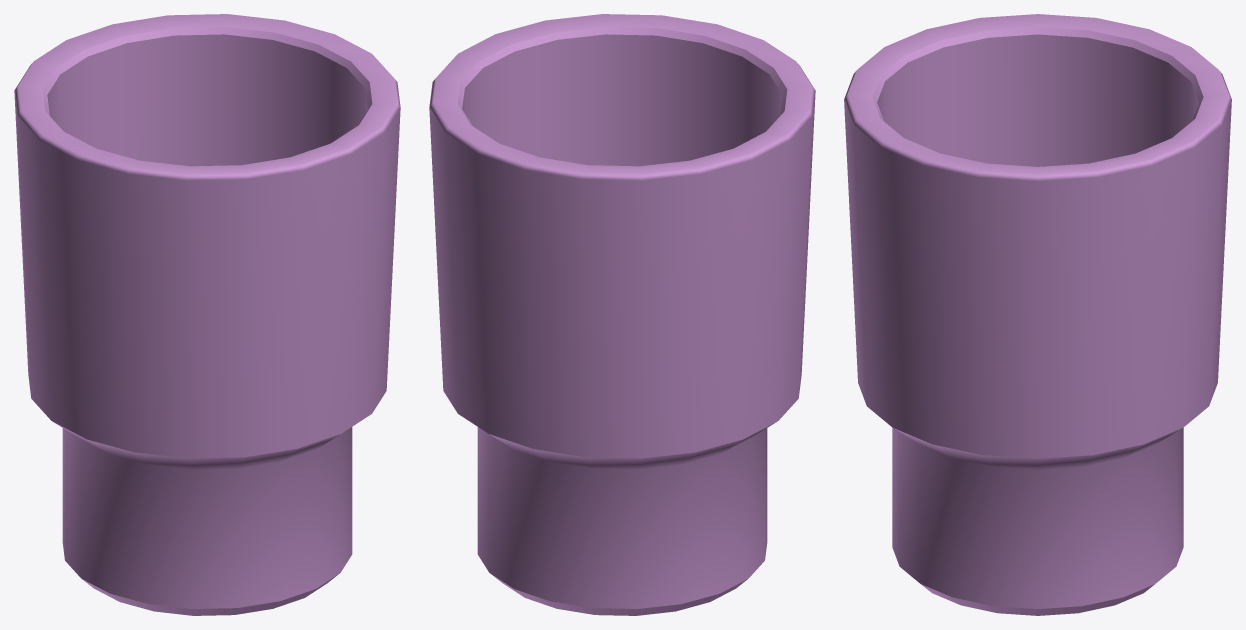
File: CoffeeCup01.fbx
3 views of the same model, side by side, from view 1: azimuth 30°, elevation 25°; view 2: azimuth 150°, elevation 25°; view 3: azimuth 270°, elevation 25° (orthographic).
Visible parts, largest first — view 1: CoffeeCup_Cup; view 2: CoffeeCup_Cup; view 3: CoffeeCup_Cup.
Part boxes in pixels (x1=…): CoffeeCup_Cup: x1=14, y1=14, x2=400, y2=615; CoffeeCup_Cup: x1=429, y1=14, x2=815, y2=615; CoffeeCup_Cup: x1=844, y1=14, x2=1231, y2=615.
Size of the model in its own units: 12.42 by 16.48 by 12.42.
Materials: 1 (1 with a texture image).
